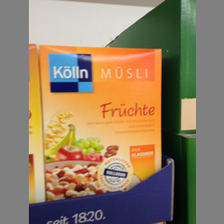cereal: (38, 44, 162, 202)
